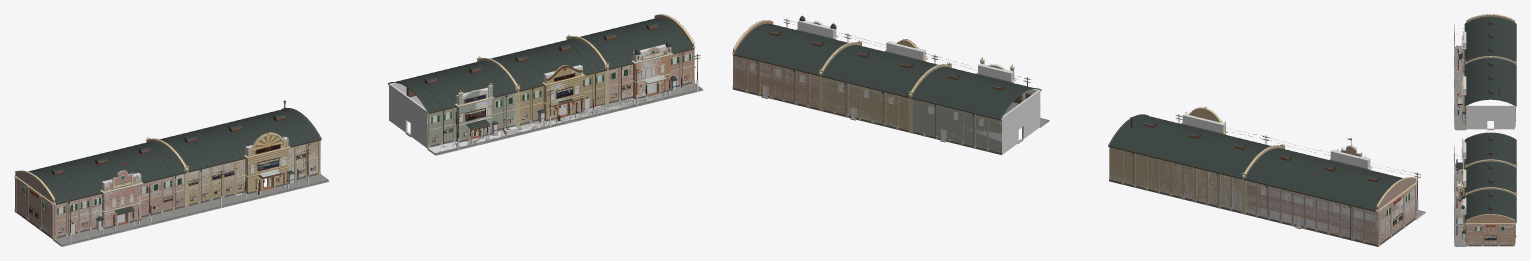
File: tower-wings.glb
3 views of the same model, side by side, from view 1: azimuth 30°, elevation 25°; view 2: azimuth 150°, elevation 25°; view 3: azimuth 270°, elevation 25° (orthographic). The views are drawn at different scales.
Visible parts, largest first — view 1: TW_LOD0_roof_sheet, TW_LOD1_roof_sheet, TW_LOD0_wallh_W2, TW_LOD0_trim, TW_LOD0_wallh_W1, TW_LOD0_footway, TW_LOD0_signs, TW_LOD2_roof_sheet, TW_LOD0_kerb, TW_LOD0_joinery, COL_wing_W1_wall_S, COL_wing_door_wing_E (+32 smaller); view 2: TW_LOD0_roof_sheet, TW_LOD1_roof_sheet, TW_LOD0_wallh_W2, TW_LOD0_wallh_W1, COL_wing_W2_wall_N, TW_LOD0_wallh_E3, TW_LOD0_wallh_E1, TW_LOD0_wallh_E2, TW_LOD0_trim, COL_wing_W1_wall_N, TW_LOD2_roof_sheet, TW_LOD0_plinth (+15 smaller); view 3: TW_LOD0_roof_sheet, TW_LOD1_roof_sheet, TW_LOD0_wallh_E3, COL_wing_door_wing_W, TW_LOD0_footway, TW_LOD2_roof_sheet, TW_LOD0_trim, TW_LOD1_footway, TW_LOD0_kerb, COL_wing_end_E, TW_LOD1_wallh_E3, TW_LOD2_iron (+27 smaller).
Boxes of the visible parts, bbox=[...] form: TW_LOD0_roof_sheet: bbox=[28, 18, 693, 221]; TW_LOD1_roof_sheet: bbox=[32, 18, 689, 198]; TW_LOD0_wallh_W2: bbox=[15, 171, 184, 236]; TW_LOD0_trim: bbox=[14, 14, 695, 239]; TW_LOD0_wallh_W1: bbox=[188, 140, 320, 204]; TW_LOD0_footway: bbox=[54, 83, 700, 243]; TW_LOD0_signs: bbox=[29, 51, 688, 232]; TW_LOD2_roof_sheet: bbox=[34, 19, 686, 192]; TW_LOD0_kerb: bbox=[61, 88, 703, 246]; TW_LOD0_joinery: bbox=[29, 26, 689, 233]; COL_wing_W1_wall_S: bbox=[188, 143, 320, 200]; COL_wing_door_wing_E: bbox=[389, 83, 427, 147]; TW_LOD0_roof_sheet: bbox=[734, 16, 1402, 210]; TW_LOD1_roof_sheet: bbox=[737, 18, 1401, 206]; TW_LOD0_wallh_W2: bbox=[1246, 178, 1416, 244]; TW_LOD0_wallh_W1: bbox=[1109, 147, 1241, 210]; COL_wing_W2_wall_N: bbox=[1246, 181, 1378, 246]; TW_LOD0_wallh_E3: bbox=[733, 21, 818, 107]; TW_LOD0_wallh_E1: bbox=[913, 99, 1001, 152]; TW_LOD0_wallh_E2: bbox=[823, 77, 908, 129]; TW_LOD0_trim: bbox=[732, 20, 1417, 246]; COL_wing_W1_wall_N: bbox=[1110, 148, 1241, 211]; TW_LOD2_roof_sheet: bbox=[740, 20, 1400, 199]; TW_LOD0_plinth: bbox=[733, 87, 1414, 246]; TW_LOD0_roof_sheet: bbox=[1456, 16, 1516, 233]; TW_LOD1_roof_sheet: bbox=[1457, 17, 1515, 218]; TW_LOD0_wallh_E3: bbox=[1466, 215, 1515, 244]; COL_wing_door_wing_W: bbox=[1466, 105, 1514, 130]; TW_LOD0_footway: bbox=[1457, 46, 1465, 245]; TW_LOD2_roof_sheet: bbox=[1459, 17, 1515, 222]; TW_LOD0_trim: bbox=[1461, 14, 1516, 246]; TW_LOD1_footway: bbox=[1457, 45, 1465, 245]; TW_LOD0_kerb: bbox=[1454, 46, 1456, 246]; COL_wing_end_E: bbox=[1468, 224, 1513, 244]; TW_LOD1_wallh_E3: bbox=[1466, 215, 1514, 243]; TW_LOD2_iron: bbox=[1464, 24, 1516, 241].
Size of the model in its own units: 176 by 16.72 by 23.07.
Materials: 51 (1 with a texture image).
